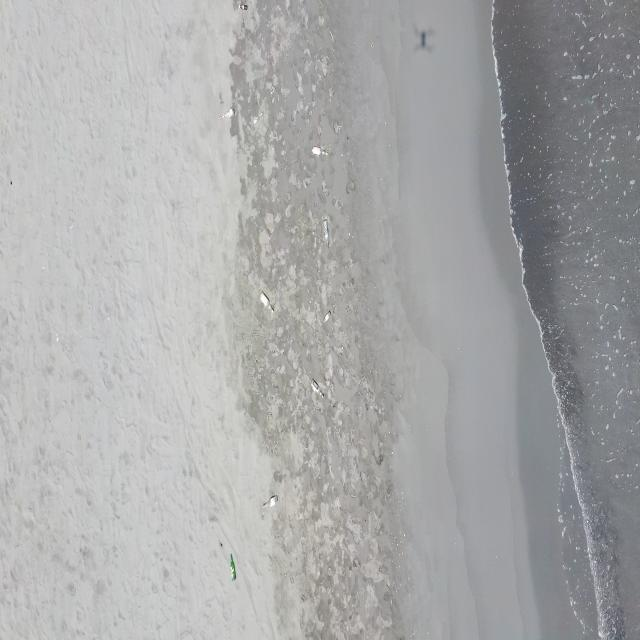glass: (259, 290, 275, 315), (310, 378, 324, 399), (229, 552, 237, 582), (219, 107, 235, 121), (311, 145, 329, 157), (263, 494, 278, 508), (323, 218, 330, 248), (252, 112, 264, 126), (323, 309, 331, 323), (238, 4, 248, 12), (270, 84, 276, 97)
